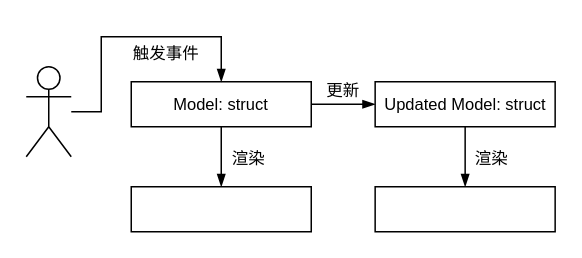
Image size: 582x258. Some labels were removed from this diagram. Here are the shapes that lost their labels. From the top down, the centre of each, then its label:
At (220,208): "View: string".
At (464,208): "Updated View: string".
